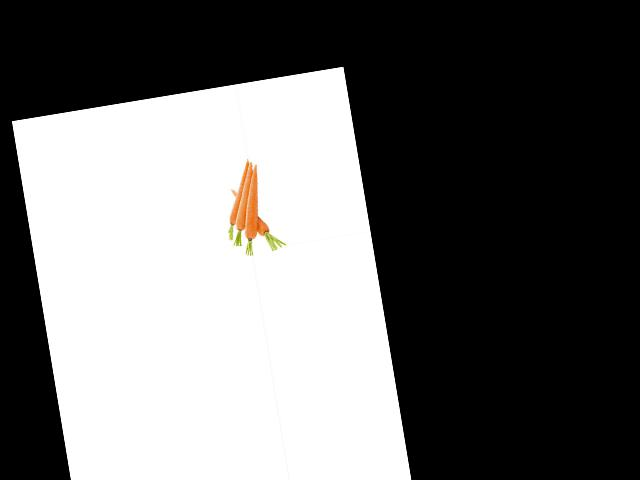carrot: (250, 211, 279, 246)
